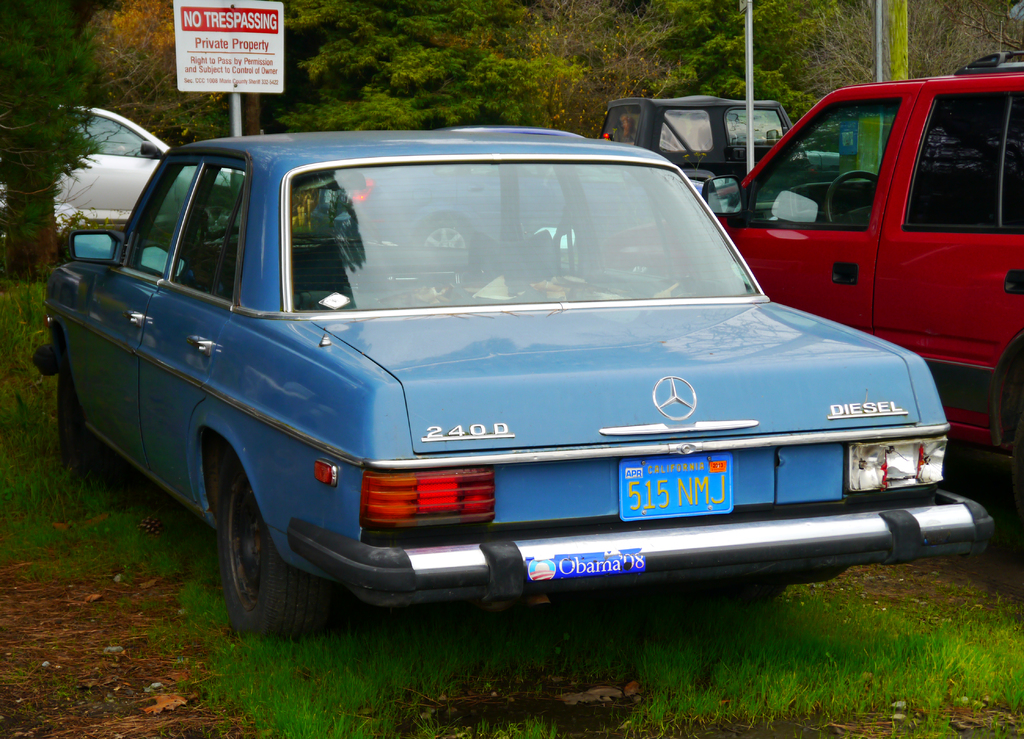Car: (0, 46, 1023, 637)
